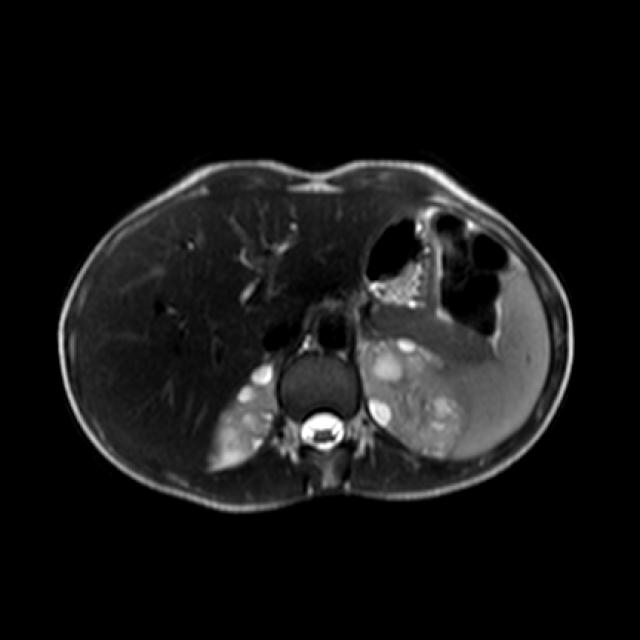sag: (208, 363, 277, 467)
sol: (365, 337, 466, 457)
